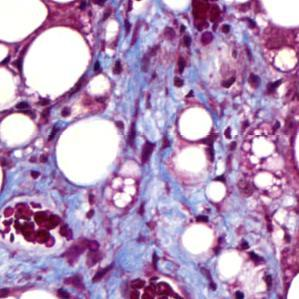steatosis: (16, 30, 96, 98), (174, 103, 218, 143)
